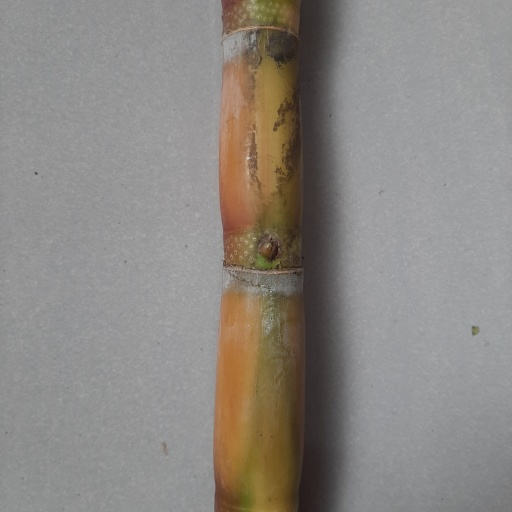Bud: (255, 234, 280, 263)
